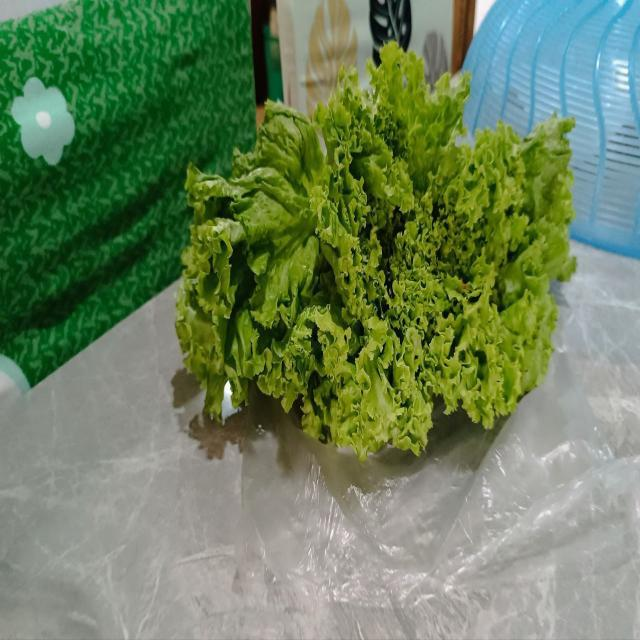Lettuce-Ready-to-Harvest: (179, 52, 580, 460)
